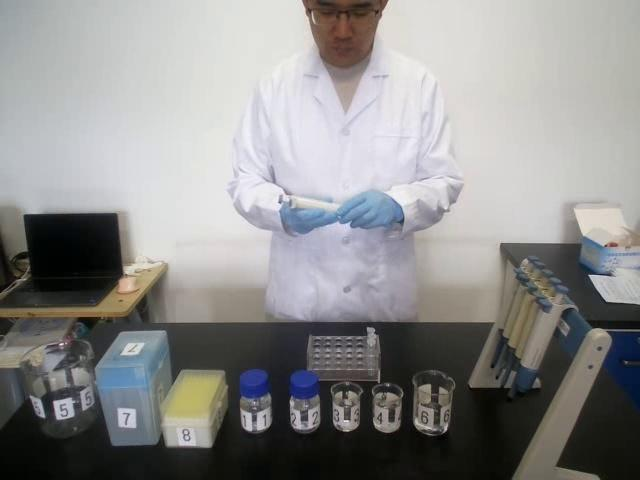Gloves: (338, 189, 403, 228), (280, 193, 336, 235)
Lab_coat: (258, 80, 435, 323)
